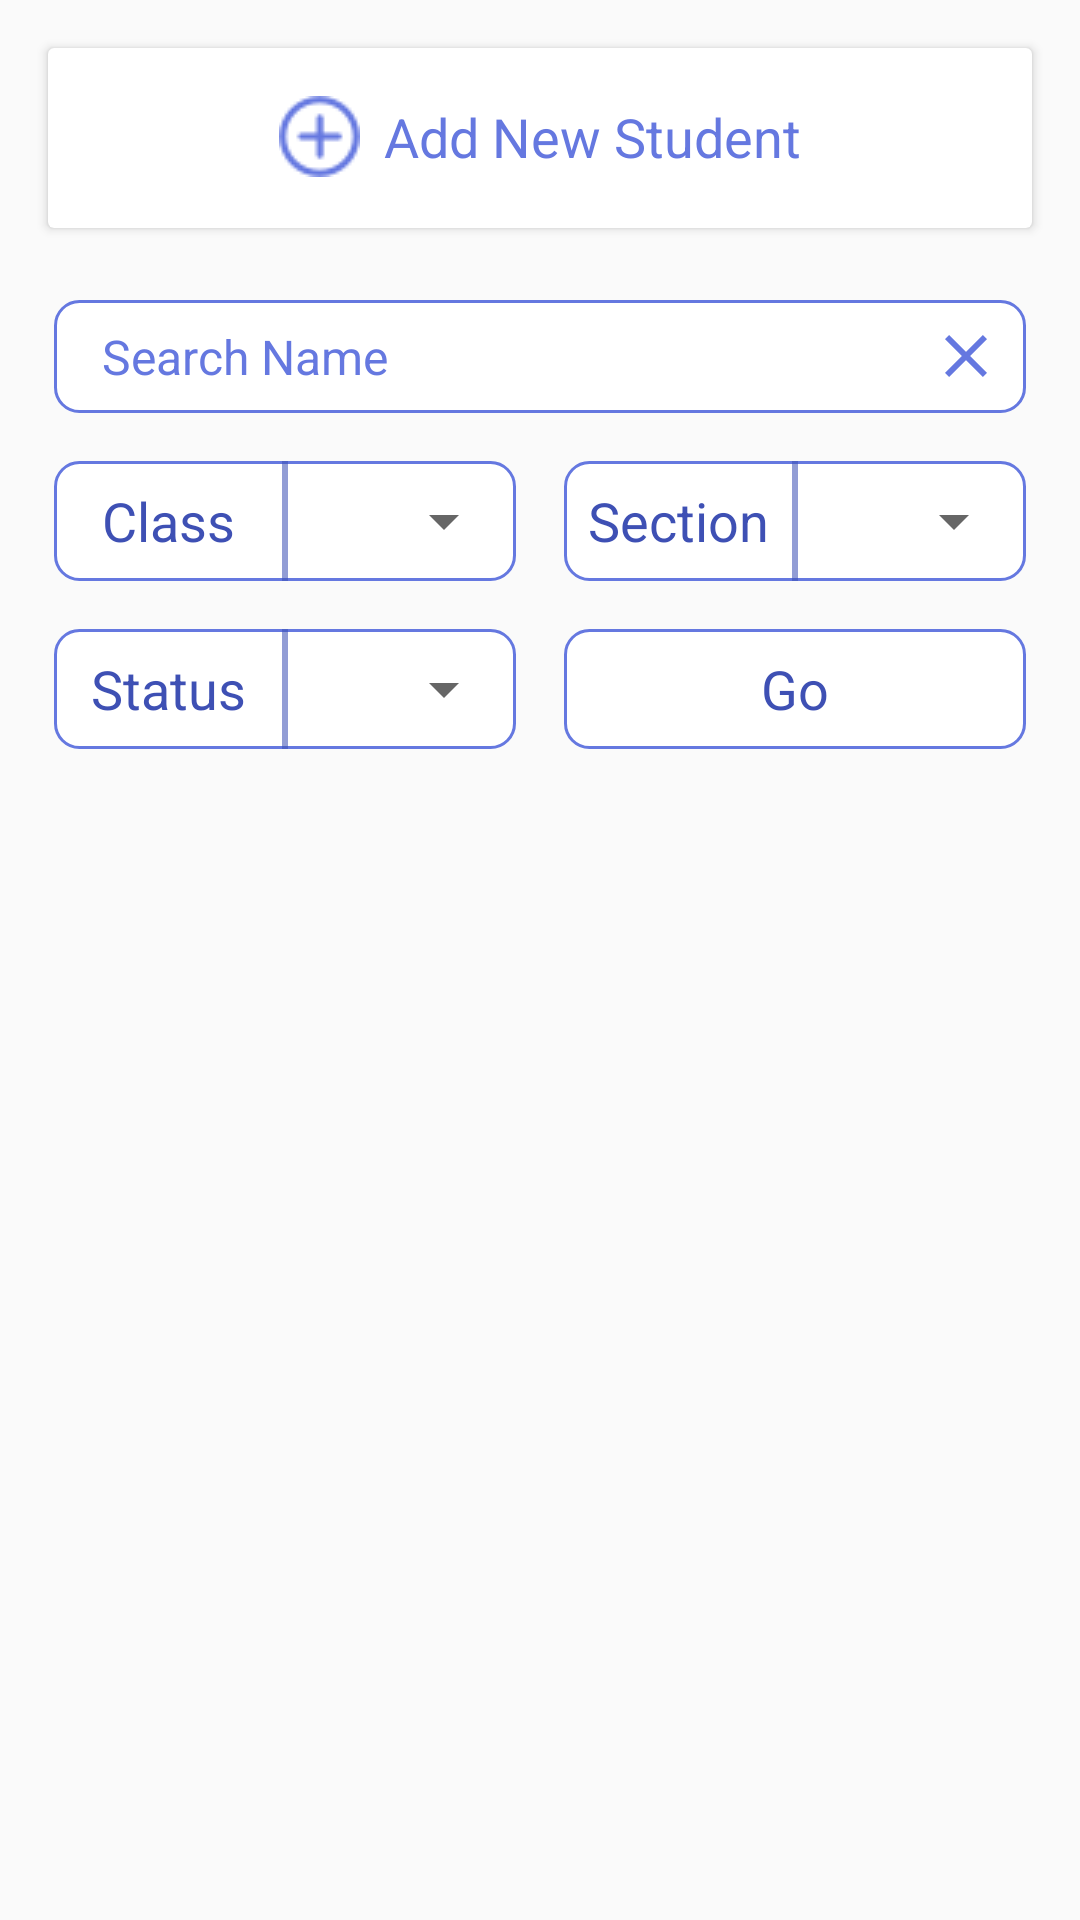

Locate icon controls on the screen. Image size 1080w x 1920h, boxes as [left=x1, top=y1, right=x2, bottom=y2].
clear: [left=945, top=335, right=987, bottom=377]
